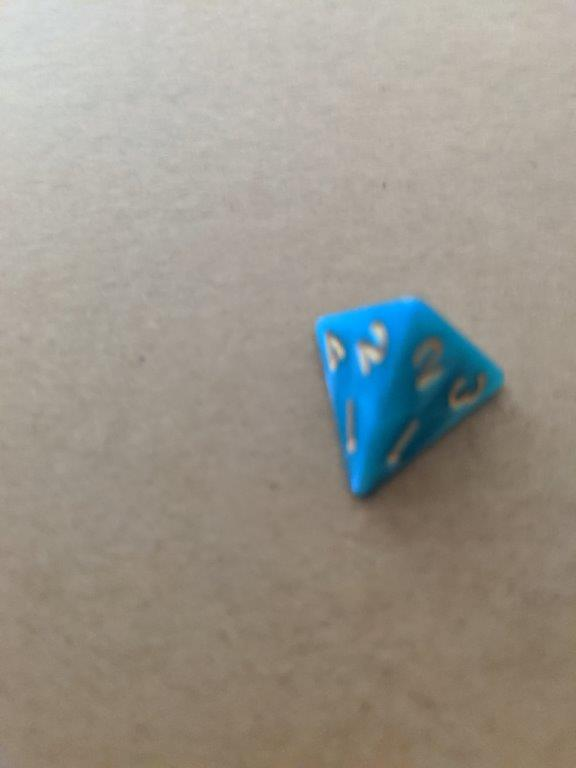d4-2: (310, 290, 507, 502)
